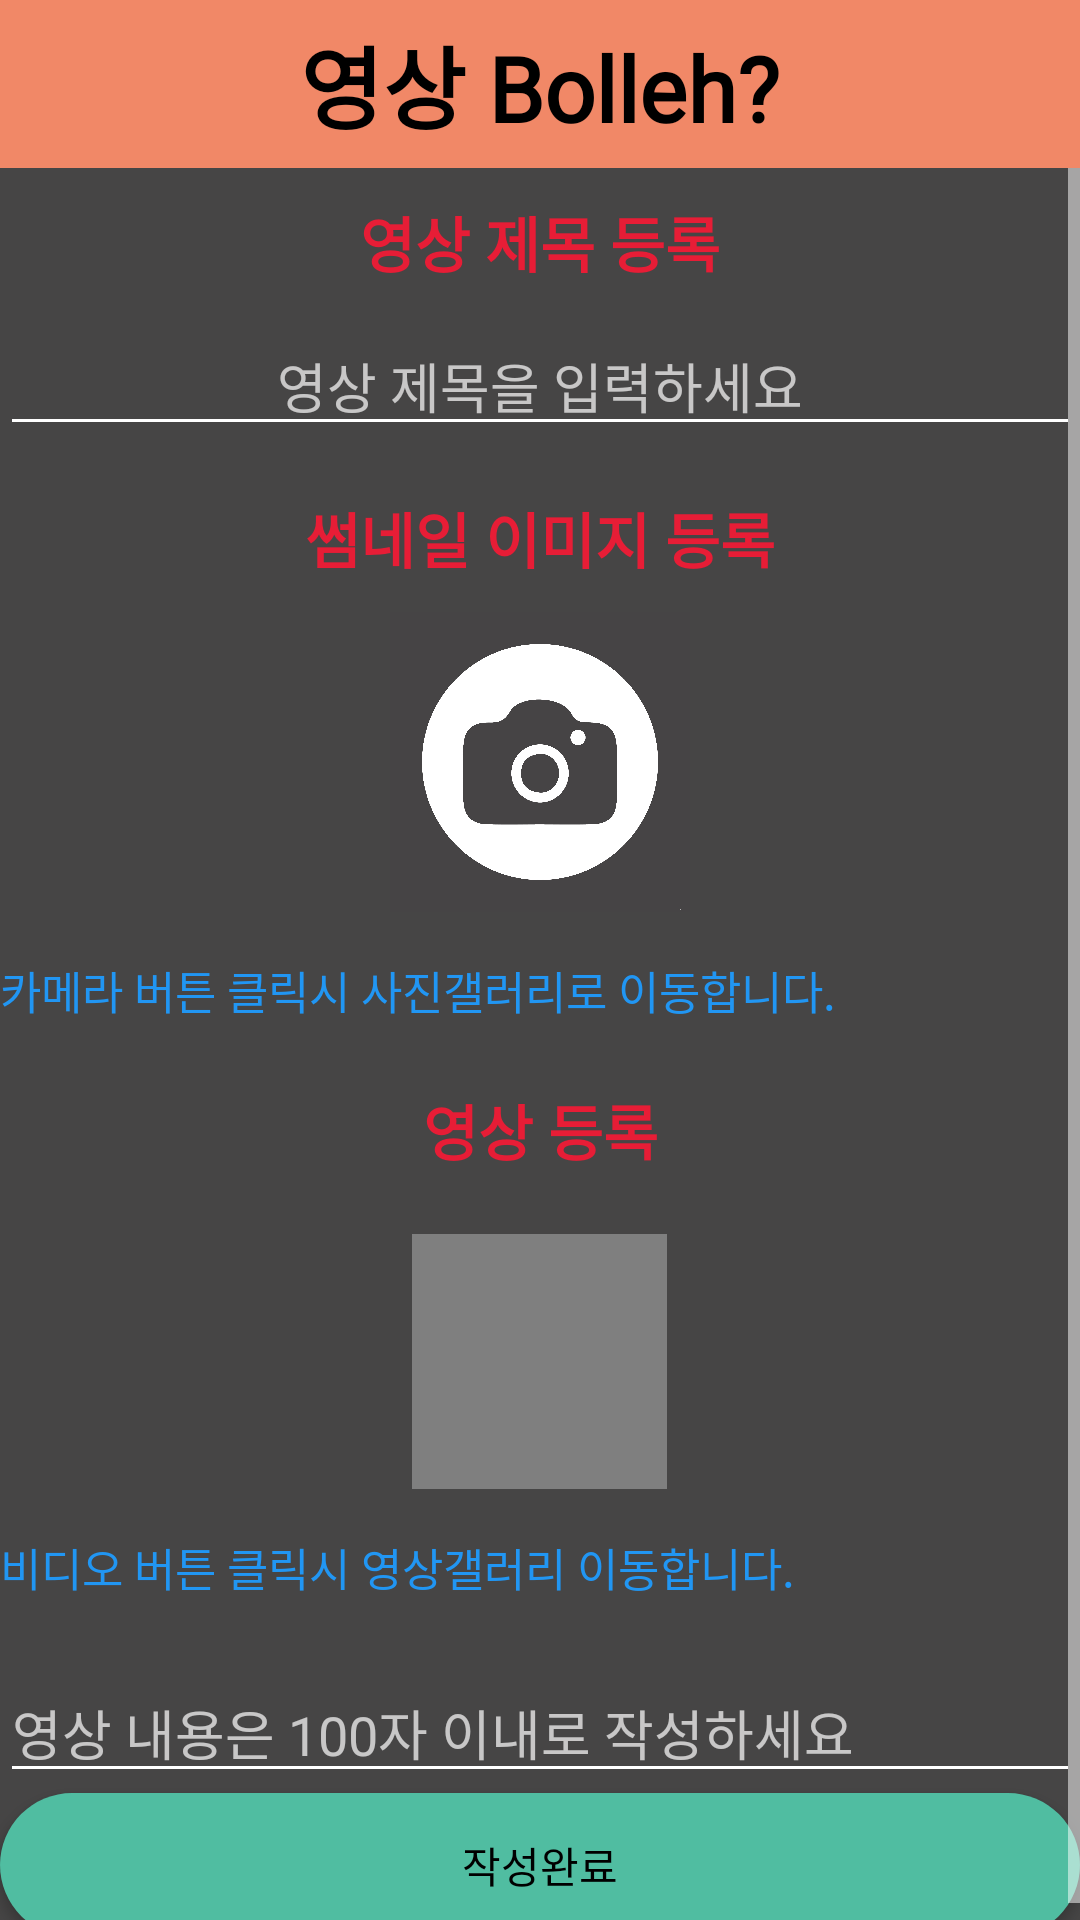

Screen size 1080×1920. Icon name, then its box in pixels as region(x1, y1, x2, y2):
cameraicon: region(422, 644, 681, 910)
